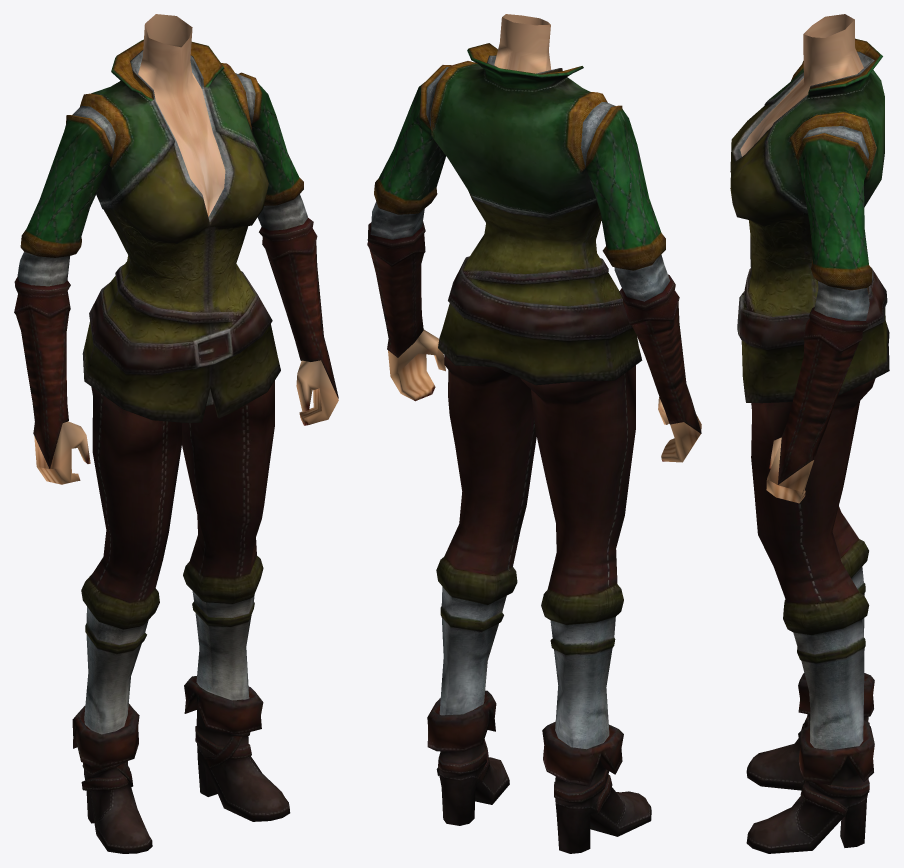
Rendered from KOSA_TRISS_GREEN.glb.
The picture shows the model from 3 angles, left to right: view 1: azimuth 30°, elevation 25°; view 2: azimuth 150°, elevation 25°; view 3: azimuth 270°, elevation 25°; orthographic projection. The views are drawn at different scales.
Visible parts, largest first — view 1: KOSA_TRISS_GREEN; view 2: KOSA_TRISS_GREEN; view 3: KOSA_TRISS_GREEN.
Part boxes in pixels (left/top/right/bottom): KOSA_TRISS_GREEN: left=14, top=14, right=338, bottom=853; KOSA_TRISS_GREEN: left=367, top=14, right=701, bottom=853; KOSA_TRISS_GREEN: left=730, top=14, right=889, bottom=853.
Bounding box in the file's own units: 0.6594 × 1.67 × 0.3029.
Materials: 2 (2 with a texture image).
